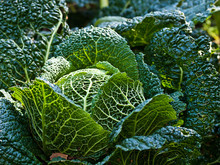cabbage: (1, 4, 216, 165)
